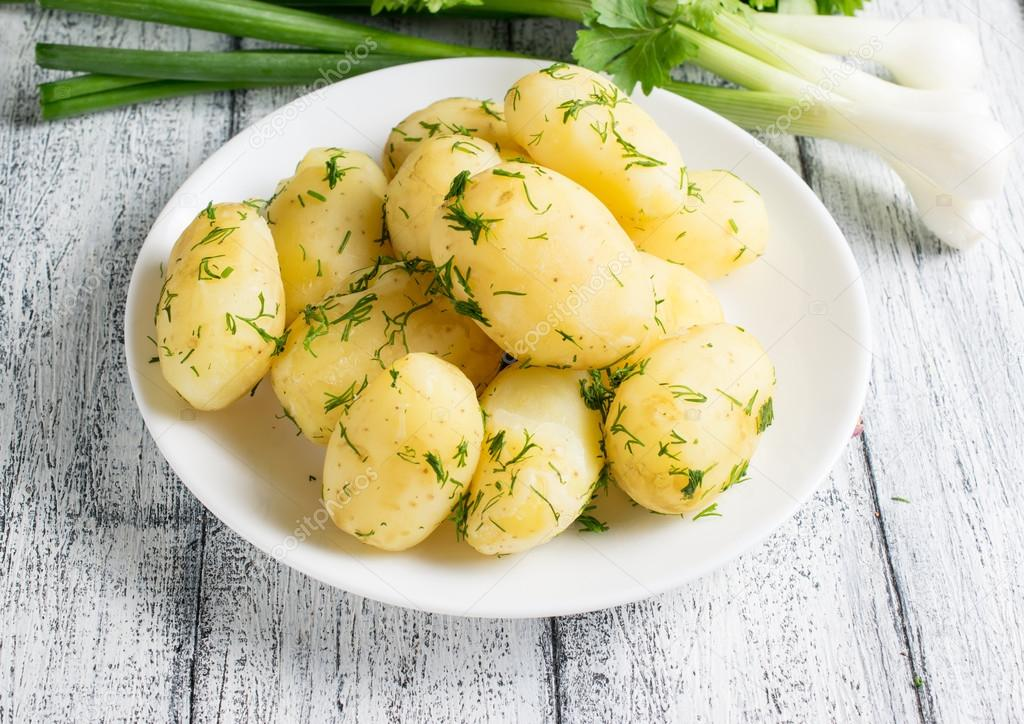boiled potatoes: (309, 133, 696, 503)
